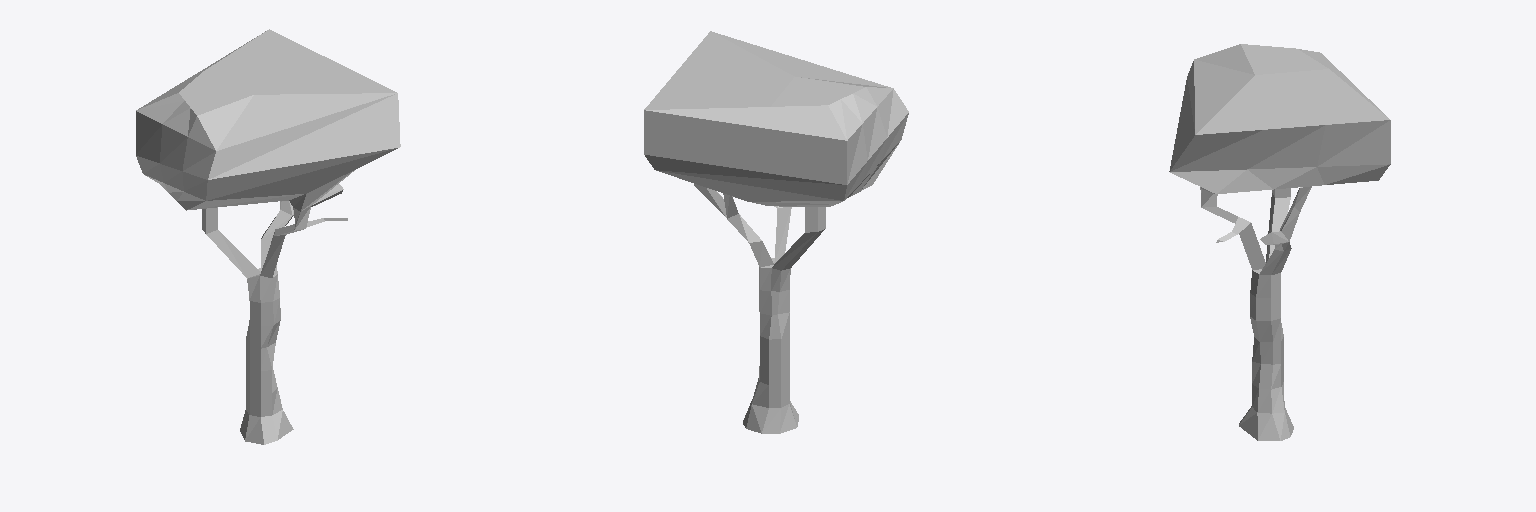
The model's file is Tree.obj.
The picture shows the model from 3 angles: view 1: azimuth 30°, elevation 25°; view 2: azimuth 150°, elevation 25°; view 3: azimuth 270°, elevation 25°; orthographic projection.
Visible parts, largest first — view 1: Cylinder; view 2: Cylinder; view 3: Cylinder.
Part boxes in pixels (left/top/right/bottom): Cylinder: left=136, top=29, right=400, bottom=444; Cylinder: left=644, top=31, right=908, bottom=433; Cylinder: left=1169, top=44, right=1390, bottom=440.
Bounding box in the file's own units: 14.27 × 23.73 × 13.7.